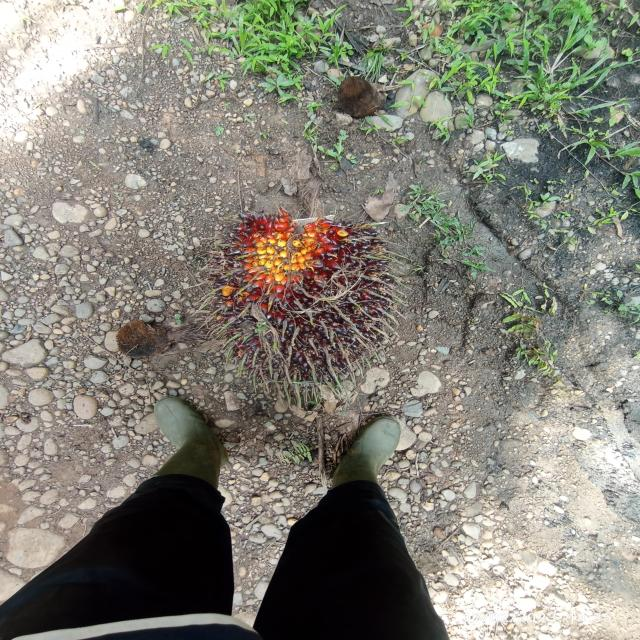fraksi 1: (174, 186, 442, 422)
